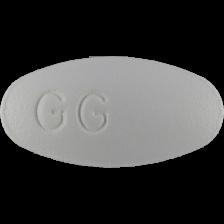54868-5478: (0, 0, 224, 224)
